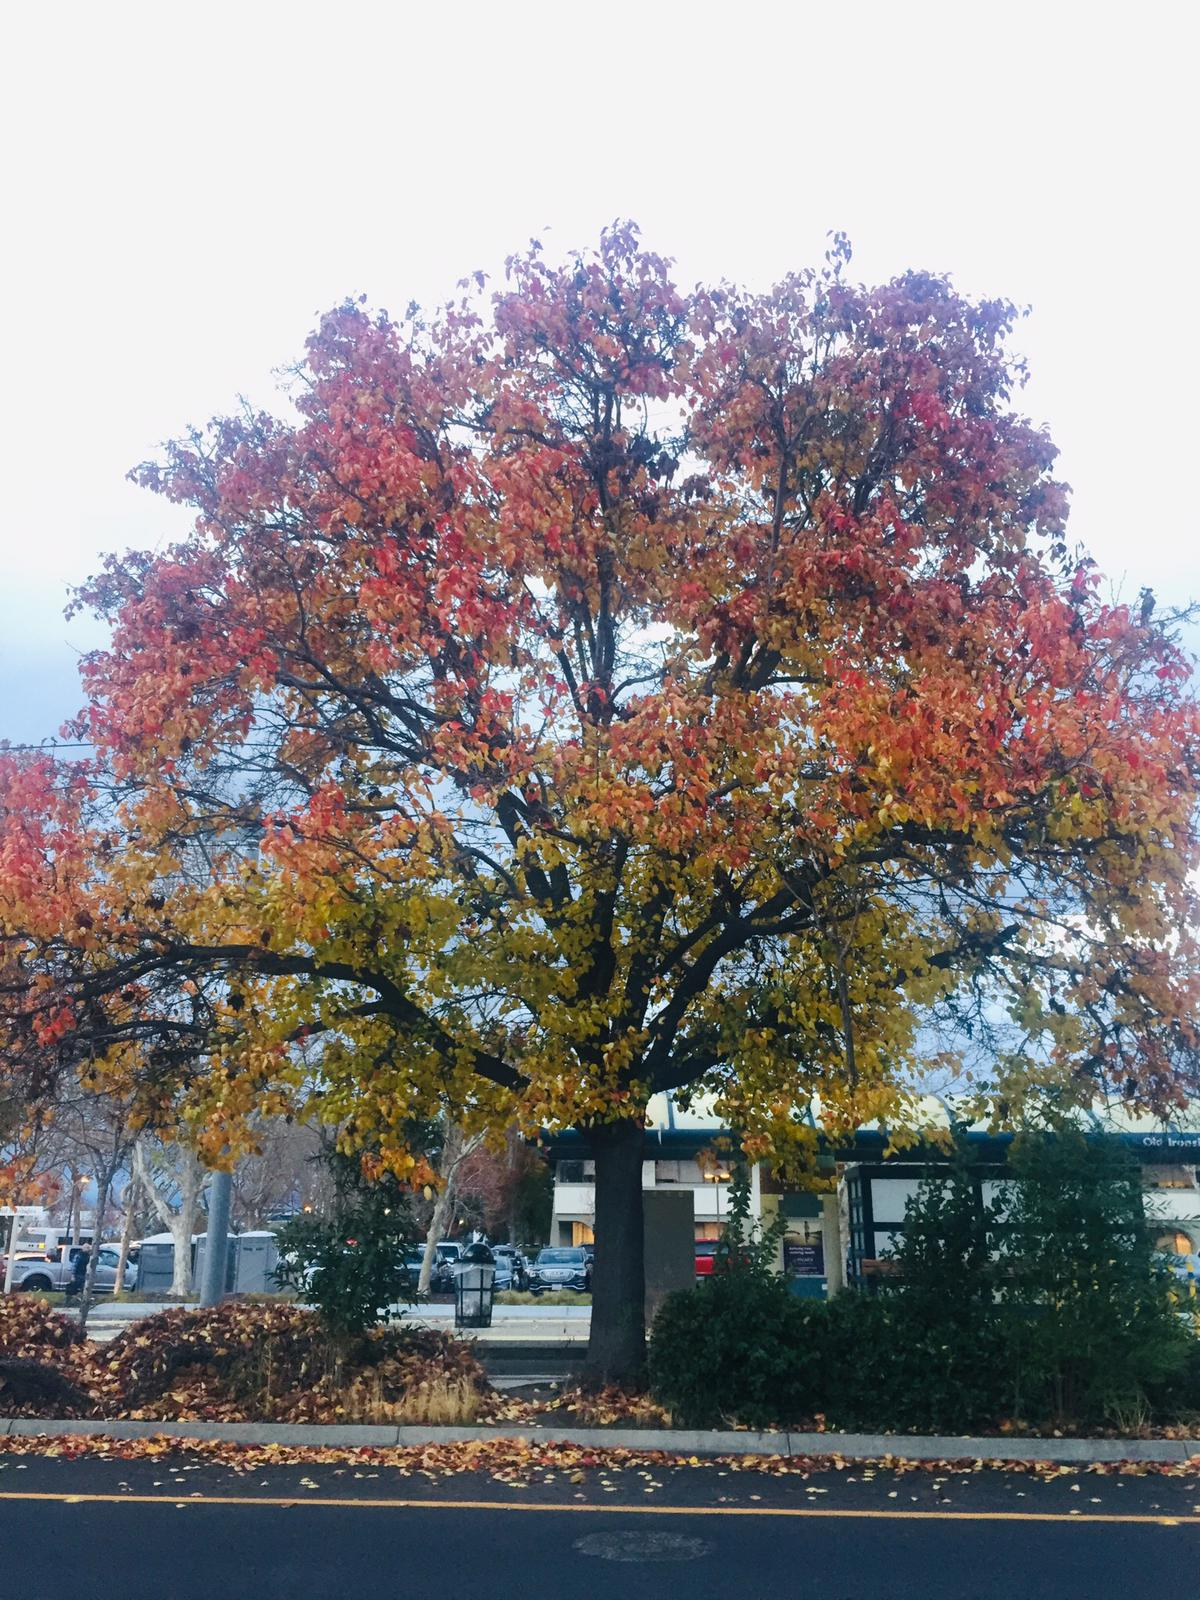plants: (13, 232, 1200, 1409)
